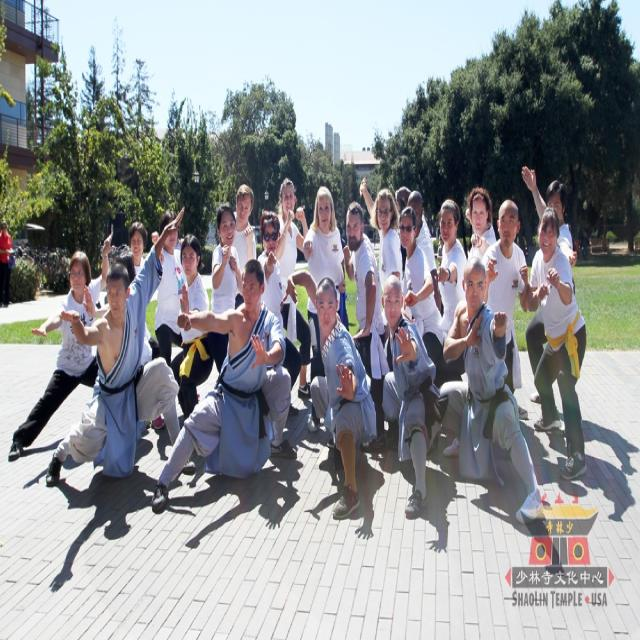body: (0, 421, 640, 594), (44, 202, 197, 491), (148, 257, 288, 514), (438, 253, 548, 528), (5, 228, 115, 464), (280, 264, 380, 521), (523, 203, 589, 483), (379, 271, 450, 523), (518, 162, 580, 406), (301, 183, 348, 436), (396, 202, 446, 439), (480, 197, 532, 422), (342, 198, 386, 452), (82, 250, 154, 402), (168, 231, 214, 418), (276, 175, 312, 400), (151, 207, 187, 432), (357, 173, 405, 326), (434, 198, 468, 388), (208, 204, 242, 374), (126, 220, 164, 362), (405, 185, 444, 319), (230, 183, 258, 312), (257, 210, 284, 333), (464, 184, 498, 264), (0, 214, 14, 310), (433, 234, 445, 266), (370, 226, 381, 250)
